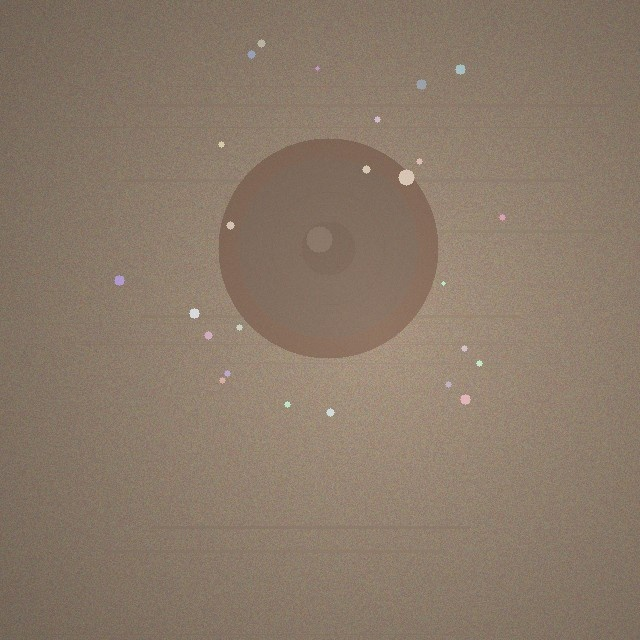overburn: (218, 138, 438, 358)
